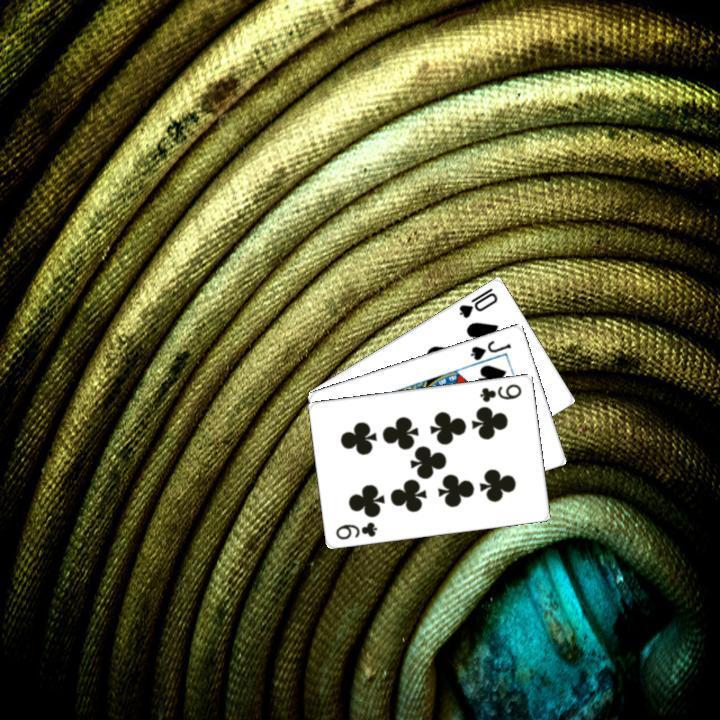10: (454, 283, 500, 320)
9: (475, 379, 524, 404), (331, 517, 380, 541)
J: (466, 335, 513, 362)
